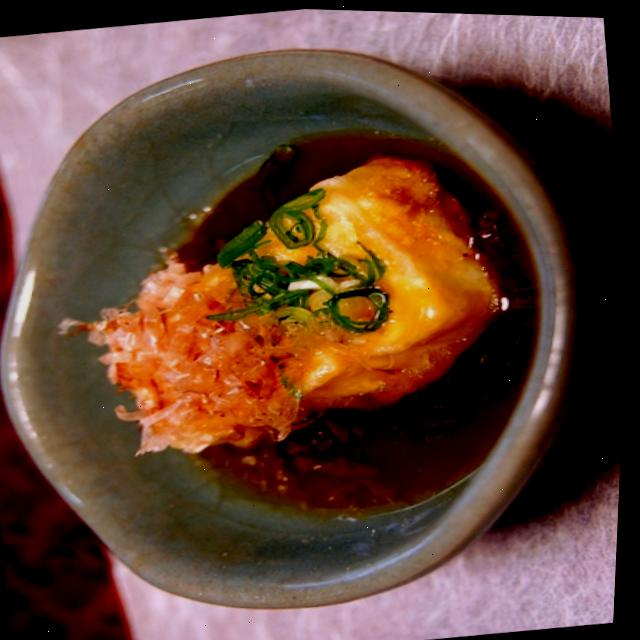豆腐料理: (0, 4, 630, 640)
